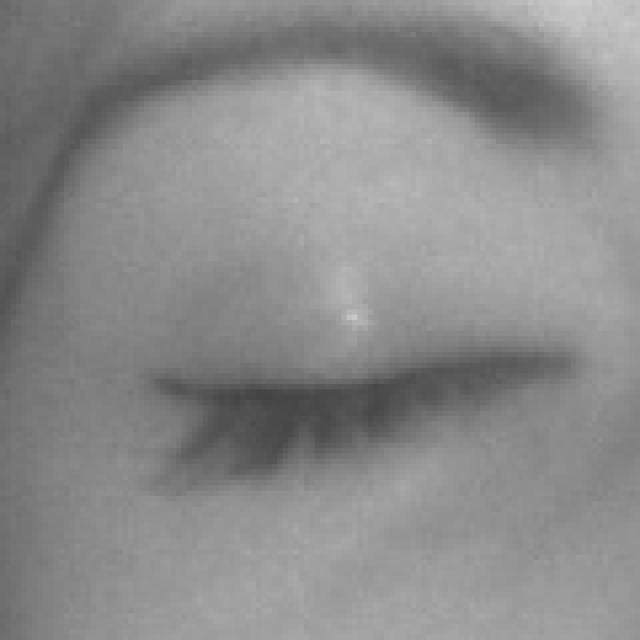Eyeclosed: (138, 220, 596, 594)
